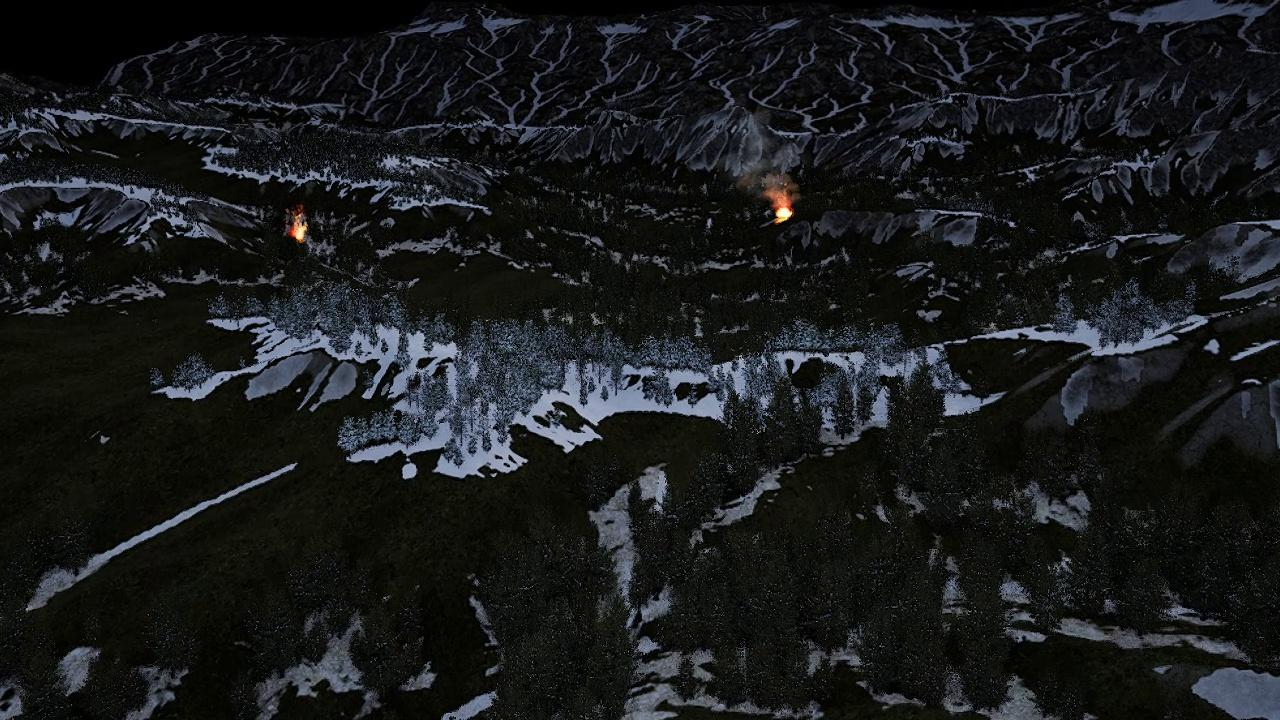fire: (774, 199, 793, 222), (289, 219, 307, 243)
smoke: (719, 110, 791, 197)
